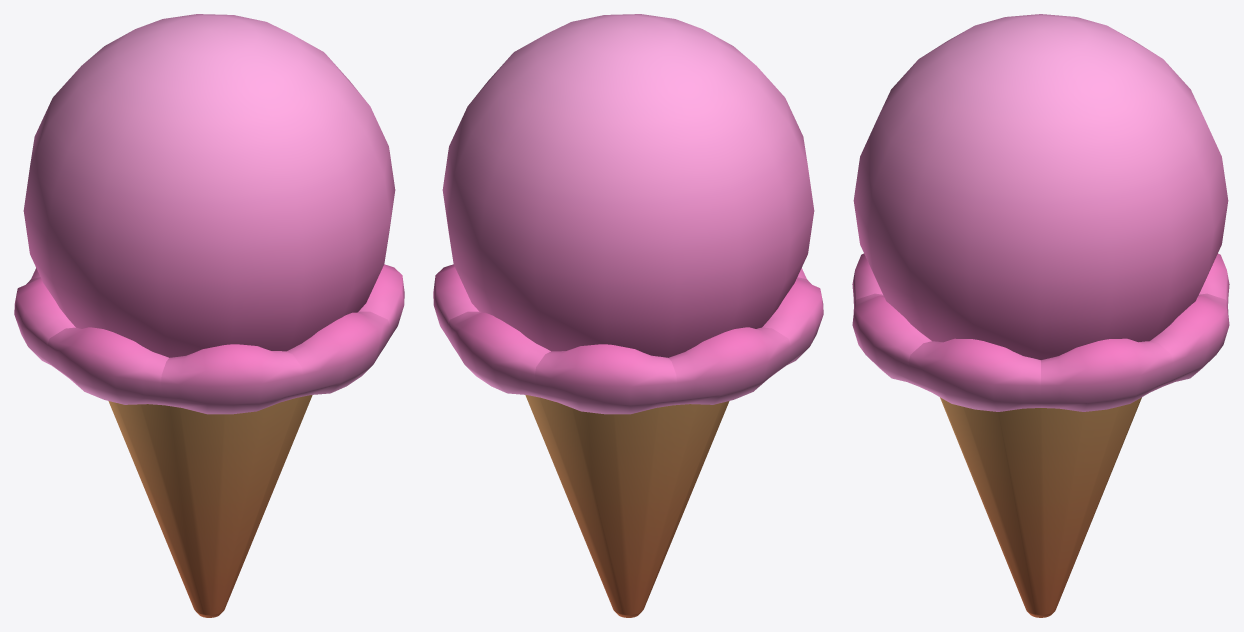
Rendered from Icecream_V1_01.fbx.
3 renders of one model, left to right at view 1: azimuth 30°, elevation 25°; view 2: azimuth 150°, elevation 25°; view 3: azimuth 270°, elevation 25°, orthographic.
Parts seen in each view (by area): view 1: Icecream_V1_01; view 2: Icecream_V1_01; view 3: Icecream_V1_01.
Part boxes in pixels (x1,y1,x2,y2): Icecream_V1_01: [14, 14, 404, 617]; Icecream_V1_01: [433, 14, 823, 617]; Icecream_V1_01: [852, 14, 1229, 617].
Size of the model in its own units: 31.28 by 53.47 by 31.28.
